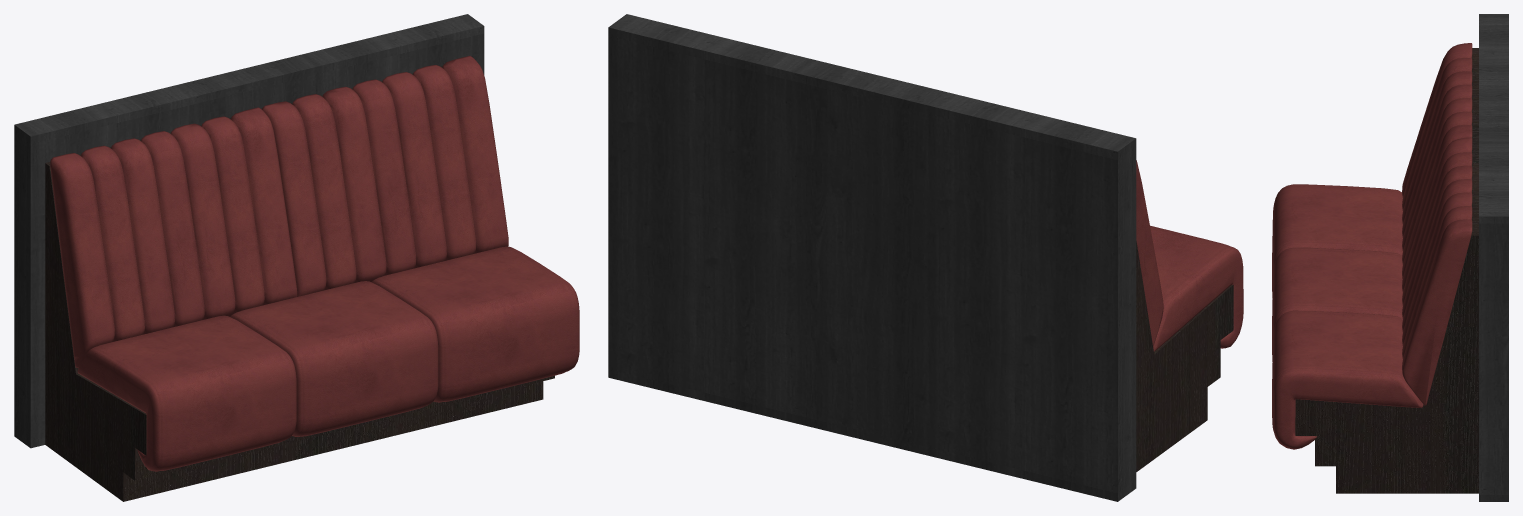
Rendered from cinema.glb.
The picture shows the model from 3 angles, left to right: view 1: azimuth 30°, elevation 25°; view 2: azimuth 150°, elevation 25°; view 3: azimuth 270°, elevation 25°; orthographic projection. The views are drawn at different scales.
Visible parts, largest first — view 1: Box9462_Material #628e_0, Rectangle1060_07 - Defaultdfer_0, Line2023_Material #67_0; view 2: Rectangle1060_07 - Defaultdfer_0, Line2023_Material #67_0, Box9462_Material #628e_0; view 3: Box9462_Material #628e_0, Line2023_Material #67_0, Rectangle1060_07 - Defaultdfer_0.
Part boxes in pixels (x1,y1,x2,y2): Box9462_Material #628e_0: (50,55,579,471); Rectangle1060_07 - Defaultdfer_0: (14,14,484,448); Line2023_Material #67_0: (45,66,554,501); Rectangle1060_07 - Defaultdfer_0: (608,14,1136,501); Line2023_Material #67_0: (1136,241,1233,471); Box9462_Material #628e_0: (1136,160,1243,351); Box9462_Material #628e_0: (1272,43,1472,449); Line2023_Material #67_0: (1295,48,1478,493); Rectangle1060_07 - Defaultdfer_0: (1479,14,1508,501).
Size of the model in its own units: 1.6 by 1.05 by 0.7908.
3 materials, 3 textured.
